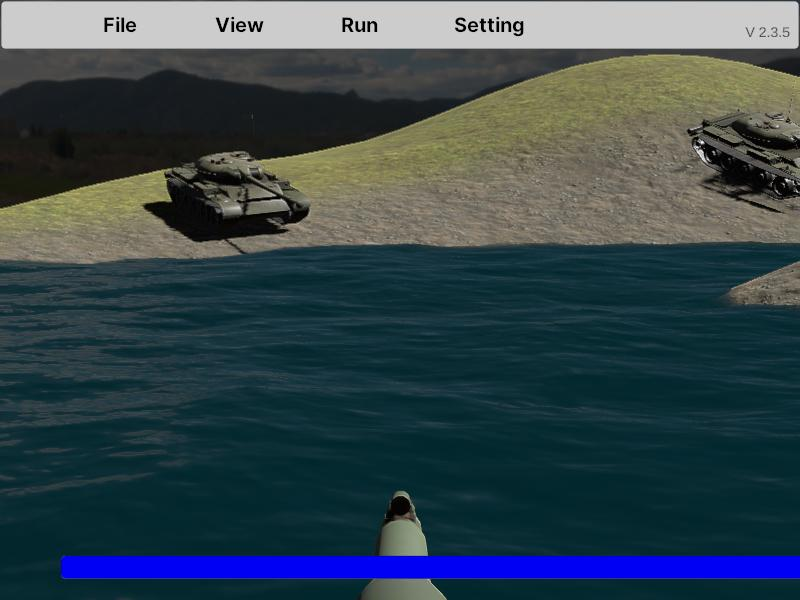Tank: (164, 150, 311, 237), (686, 108, 800, 200)
